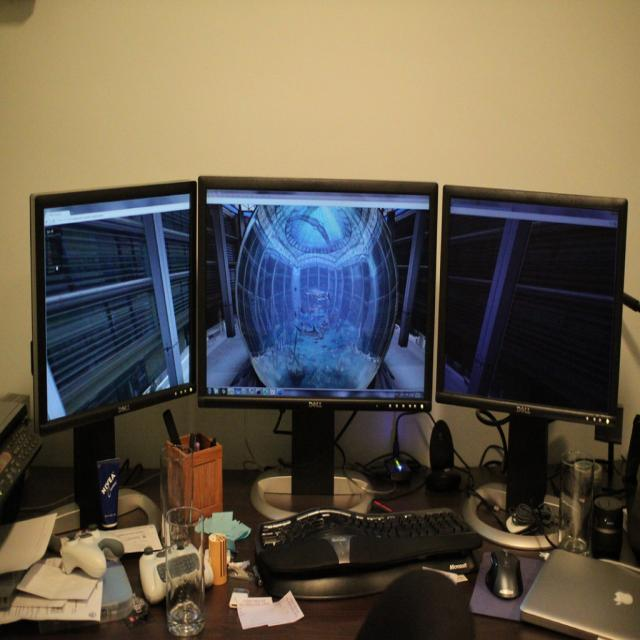desk: (0, 464, 639, 639)
keyboard: (255, 506, 482, 589), (0, 419, 42, 522)
laptop: (520, 547, 639, 639)
mouse: (485, 548, 524, 600)
tv: (192, 174, 437, 420), (434, 186, 628, 429), (29, 181, 197, 441)
